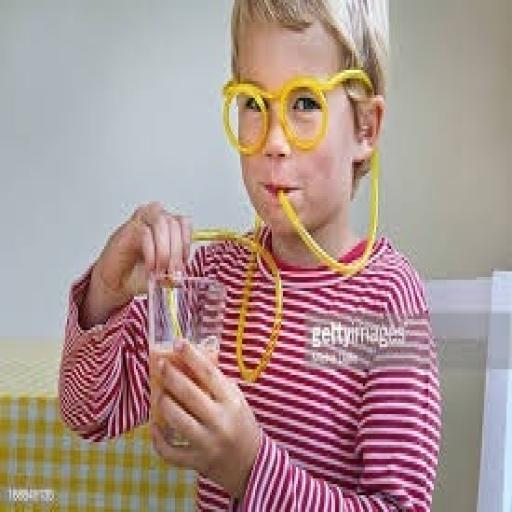drinking: (145, 0, 453, 448)
